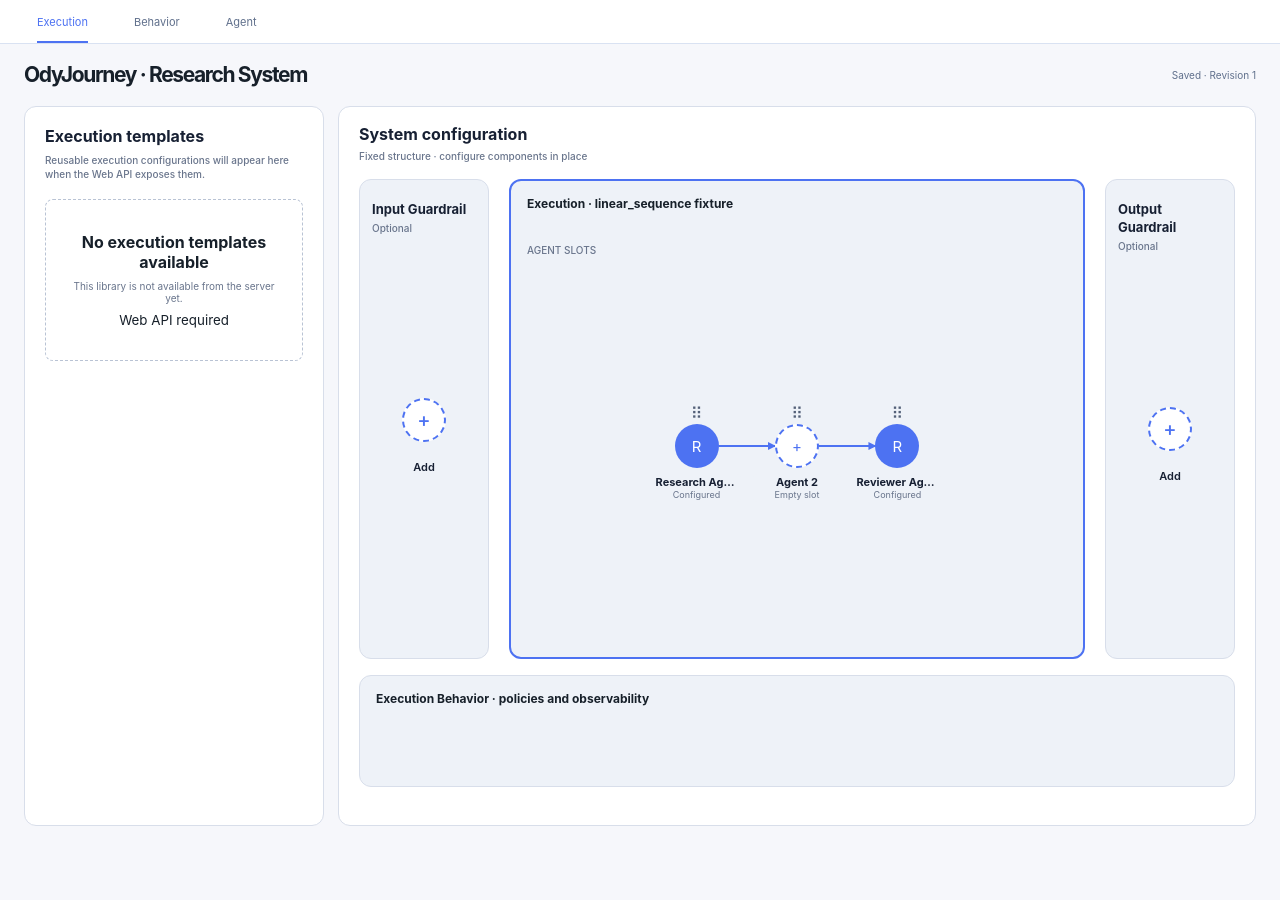
Test: JourneyEditorView integration › adds and removes an optional Guardrail through the repository command path
Step 1. Click the button with aria-label "Add input Guardrail" → (424, 436), box left=388, top=392, right=460, bottom=480
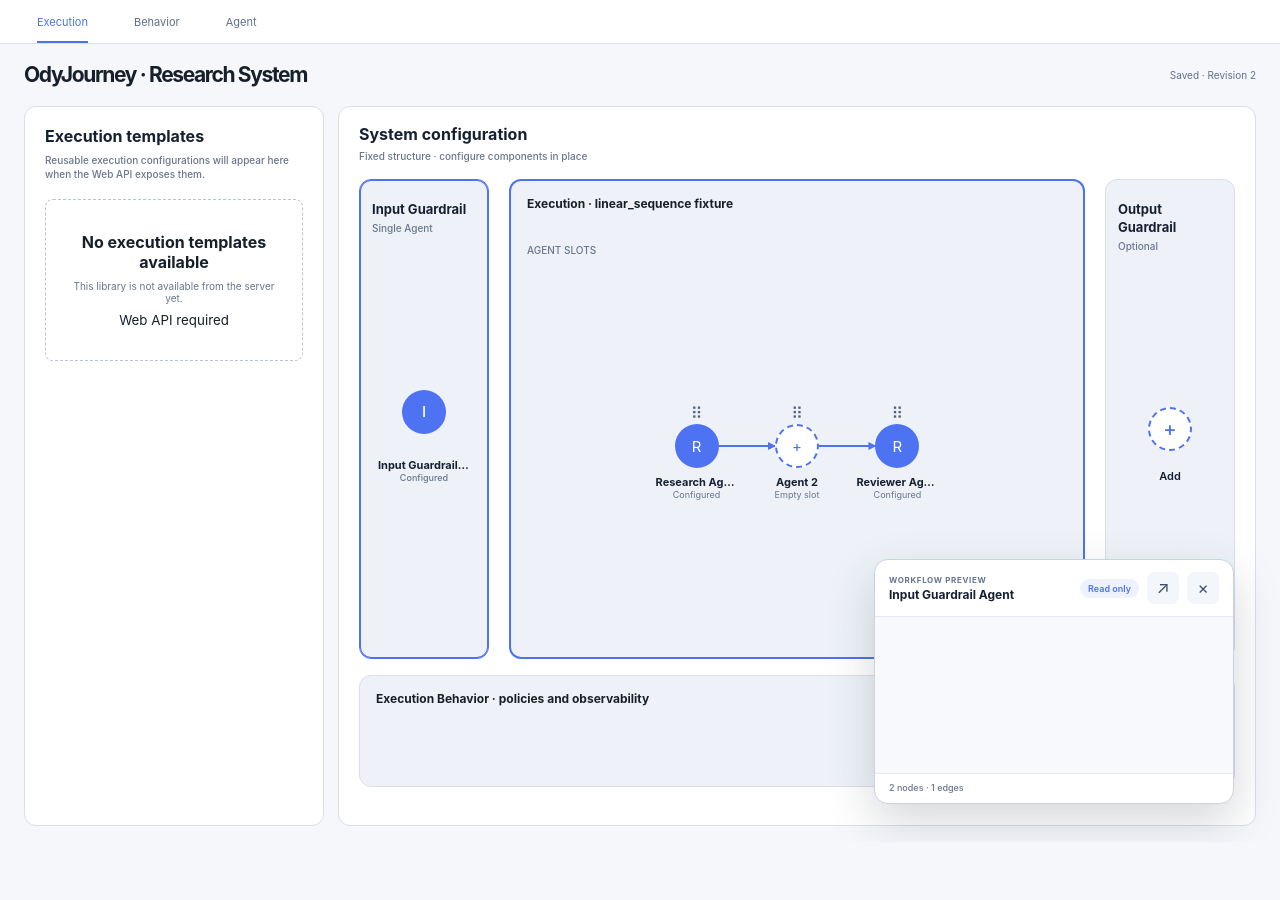
Step 2. Right-click the button with class "guardrail-module__agent" → (424, 436), box left=372, top=380, right=476, bottom=492
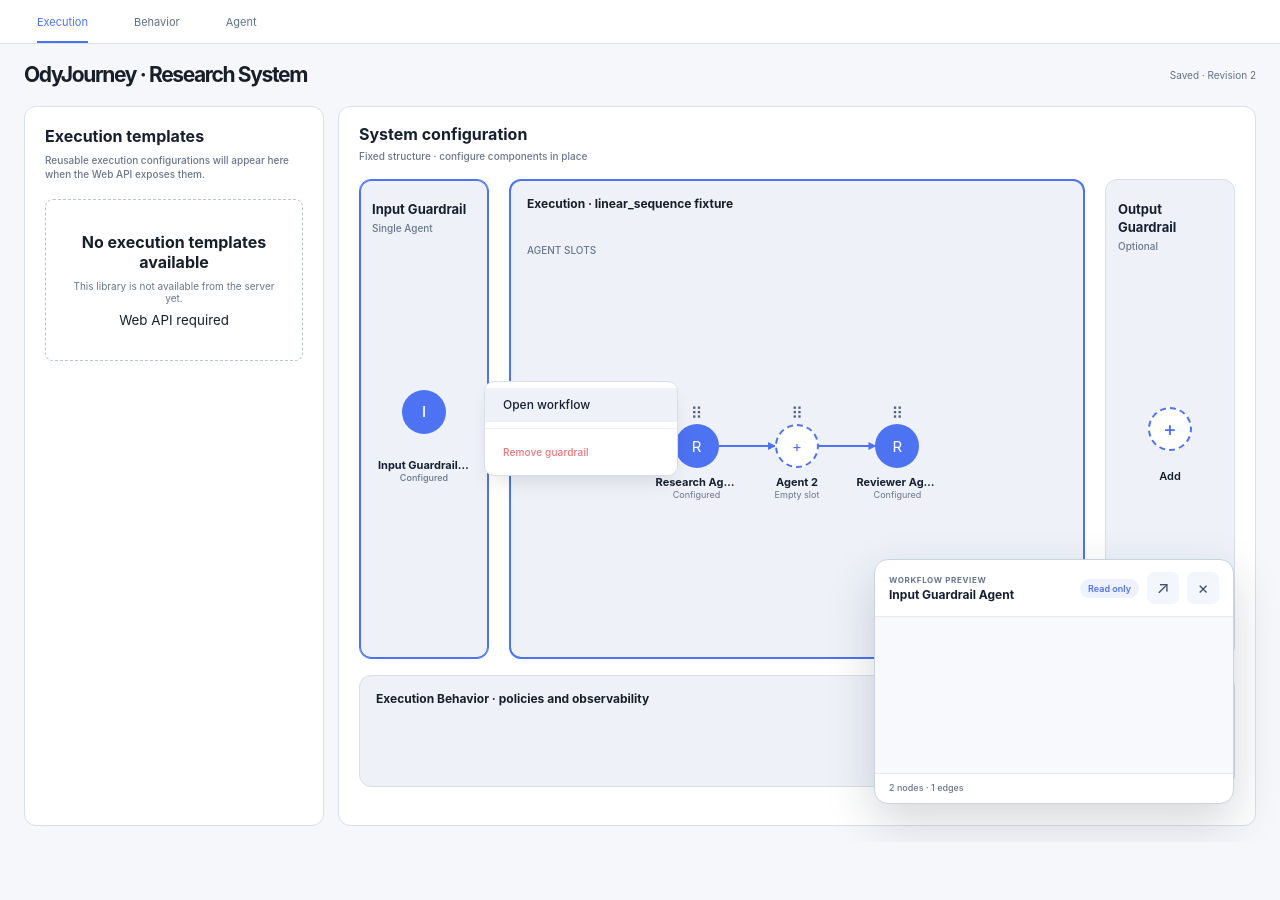
Step 3. Click the menu item "Remove guardrail" → (581, 452), box left=485, top=434, right=677, bottom=468
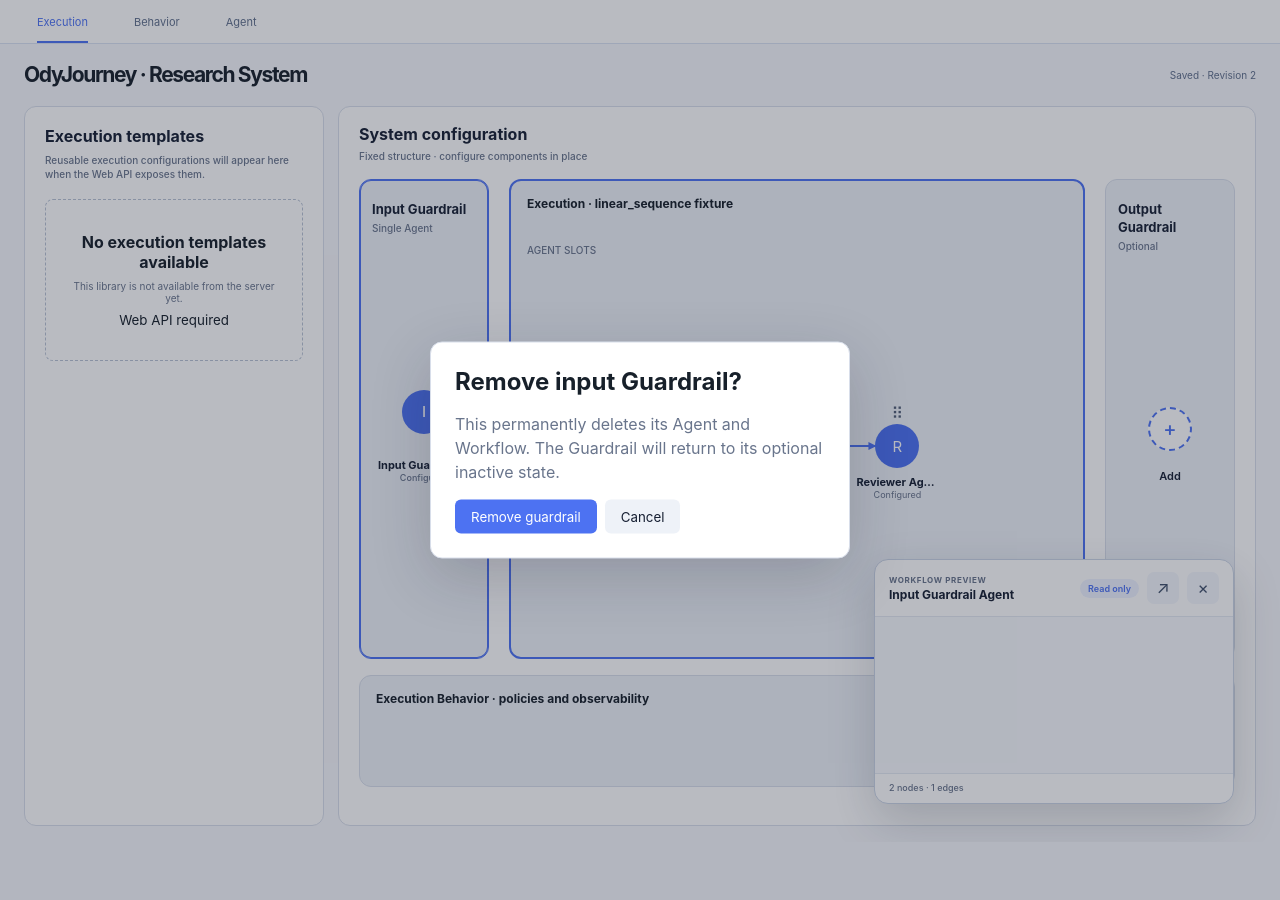
Check: the dialog shows "permanently deletes its Agent and Workflow", box left=455, top=414, right=822, bottom=482
Step 4. Click the button "Remove guardrail" → (526, 516), box left=455, top=500, right=597, bottom=534
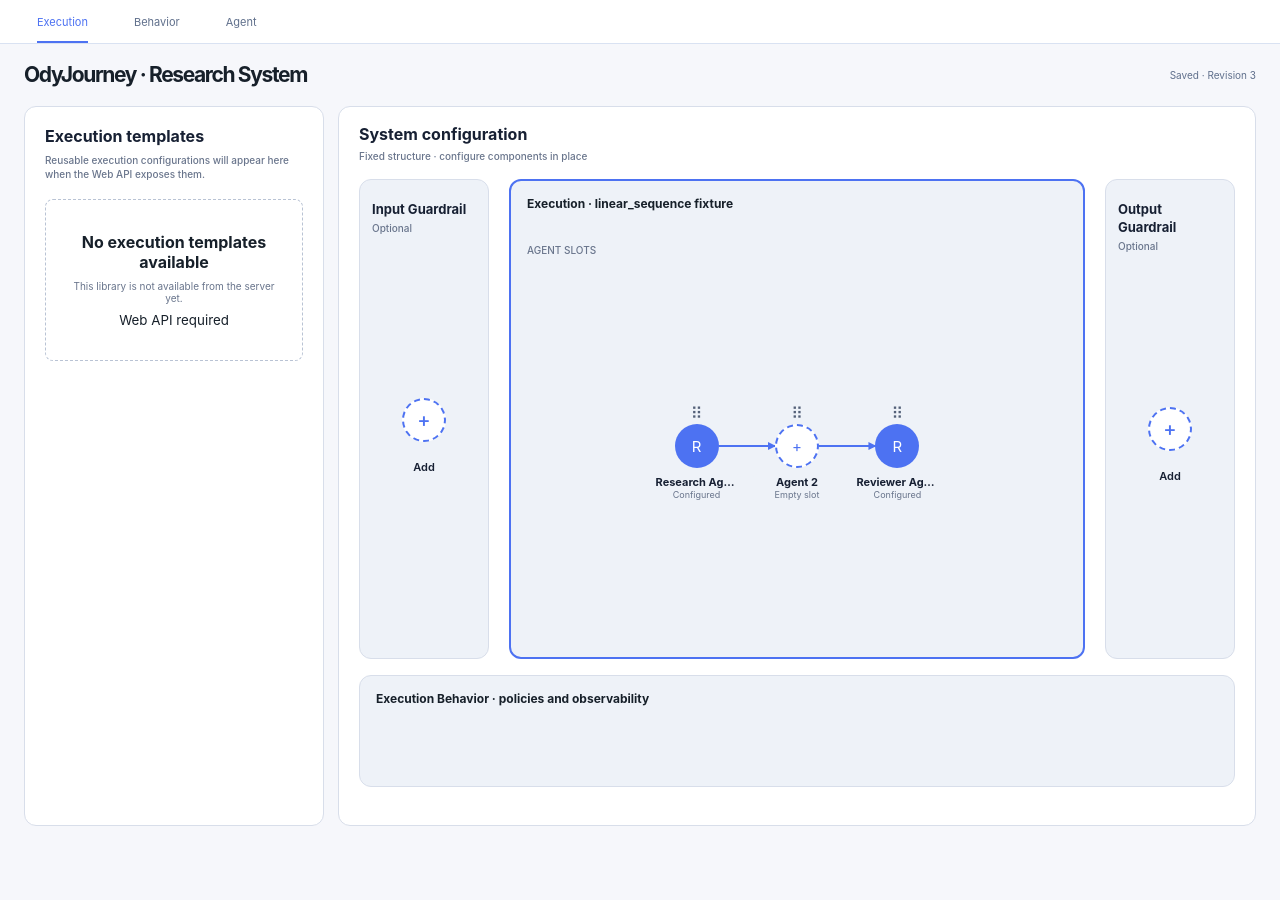
Check: the button with aria-label "Add input Guardrail" is shown, box left=388, top=392, right=460, bottom=480
